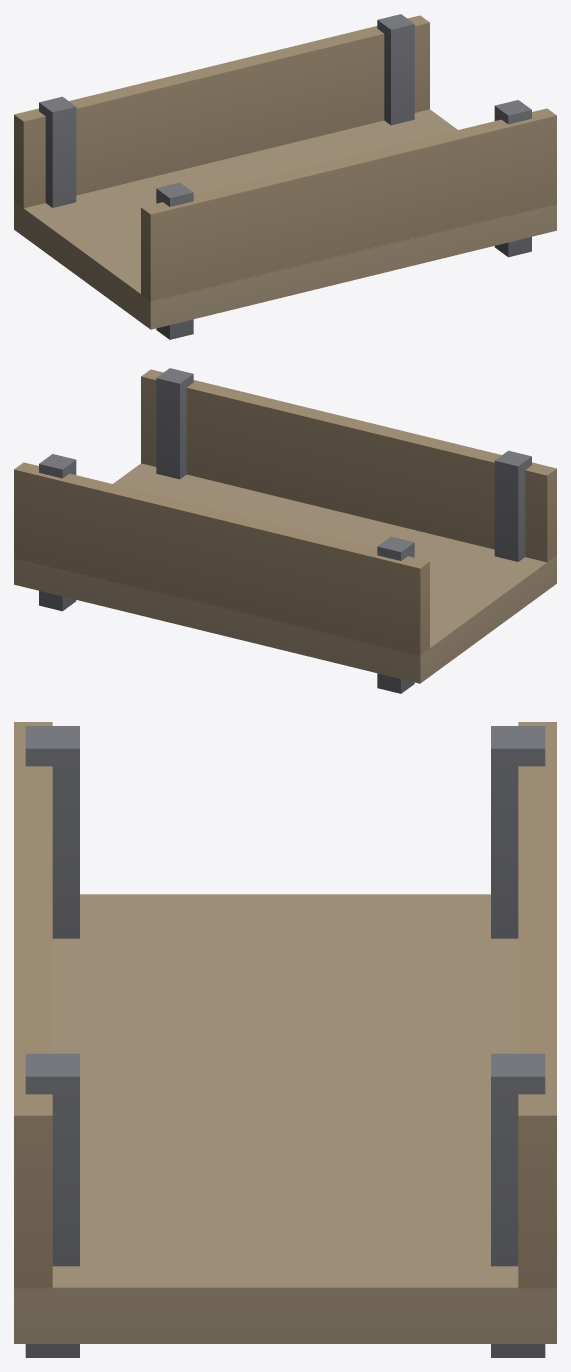
The model's file is bridge.glb.
3 views of the same model, one above another, from view 1: azimuth 30°, elevation 25°; view 2: azimuth 150°, elevation 25°; view 3: azimuth 270°, elevation 25° (orthographic). The views are drawn at different scales.
Parts seen in each view (by area): view 1: root; view 2: root; view 3: root.
Part boxes in pixels (x1,y1,x2,y2): root: (14, 14, 556, 339); root: (14, 368, 556, 693); root: (14, 722, 556, 1357).
Size of the model in its own units: 2.4 by 0.8 by 1.4.
